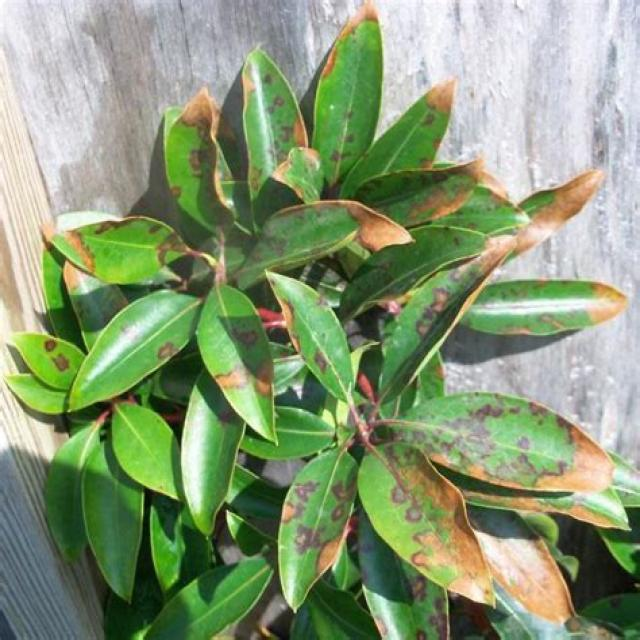blight: (398, 452, 492, 600), (508, 394, 623, 512), (311, 192, 413, 259)
